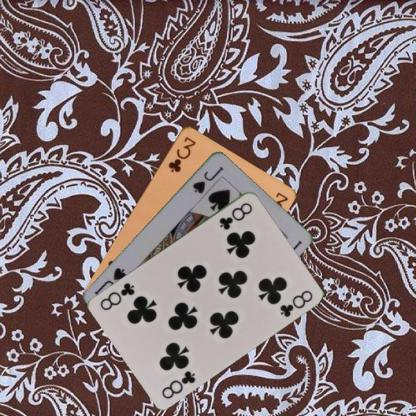3c: (165, 133, 198, 174)
8c: (159, 367, 197, 400), (216, 199, 254, 231)
Js: (190, 163, 225, 195)
